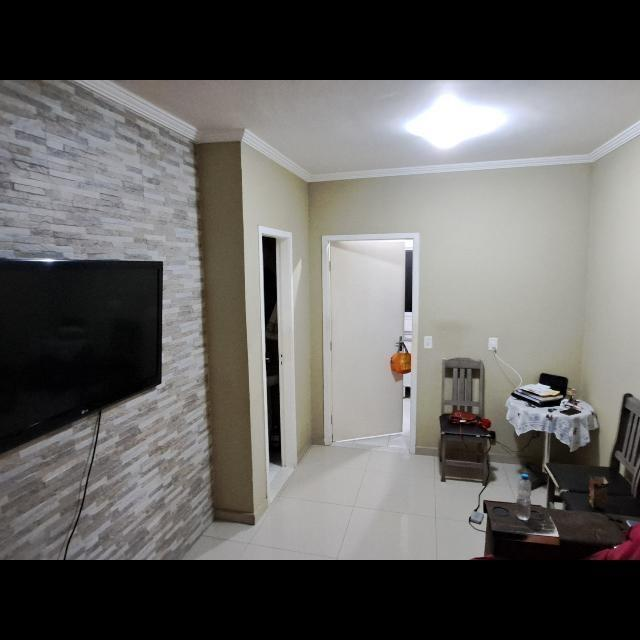door: (326, 238, 405, 442)
